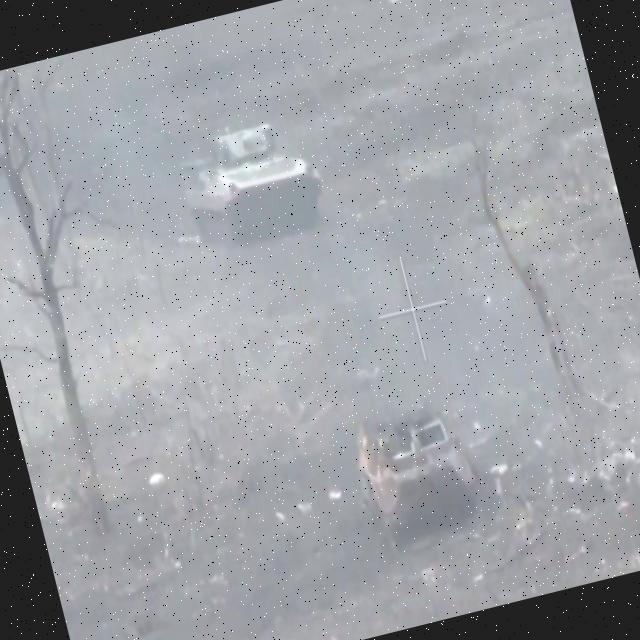AIFV: (169, 104, 334, 252)
Destroyed: (348, 392, 481, 537)
